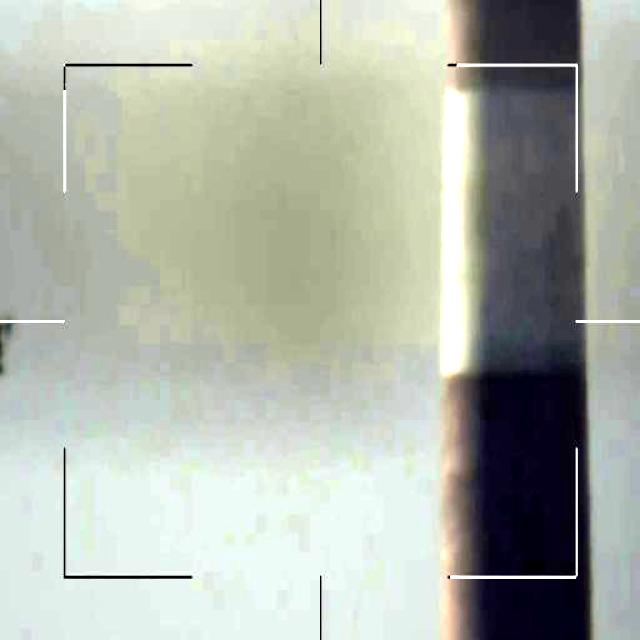bird: (0, 310, 32, 379)
